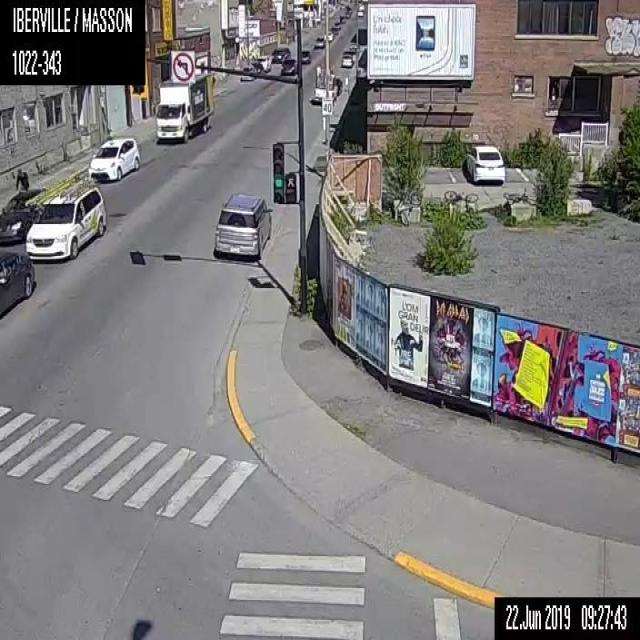cyclist: (15, 167, 29, 190)
vehicle: (25, 174, 107, 260), (153, 73, 215, 143), (212, 190, 272, 262), (0, 188, 47, 243), (0, 245, 35, 315), (88, 137, 141, 181), (466, 144, 505, 184), (312, 63, 342, 104), (280, 57, 297, 75), (271, 47, 290, 63), (256, 55, 271, 72), (240, 64, 255, 79), (251, 60, 263, 76), (340, 54, 353, 67), (300, 50, 311, 64), (314, 35, 324, 48), (323, 31, 333, 41), (339, 13, 345, 23), (333, 21, 340, 29), (345, 11, 350, 17)
